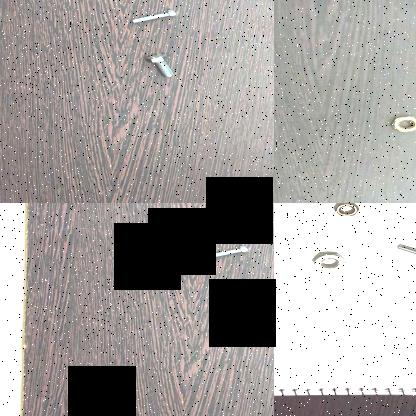Bolts: (128, 4, 180, 29), (138, 54, 180, 82), (216, 286, 252, 314), (387, 240, 416, 271), (204, 244, 248, 262)
NUTS: (309, 250, 352, 276), (385, 115, 416, 135), (330, 203, 366, 219), (331, 203, 361, 218)
